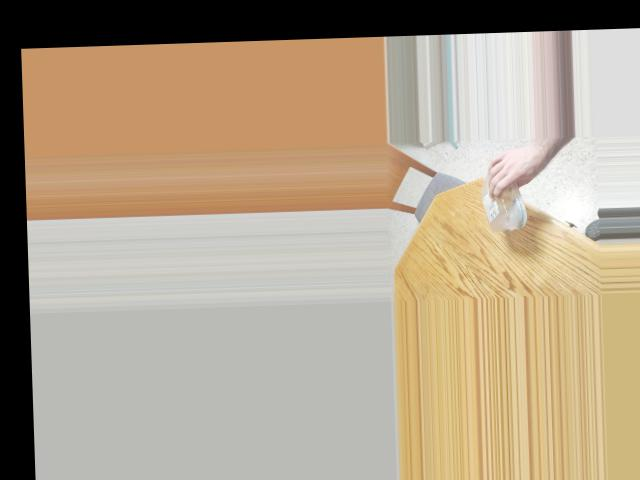cheese: (478, 155, 532, 219)
